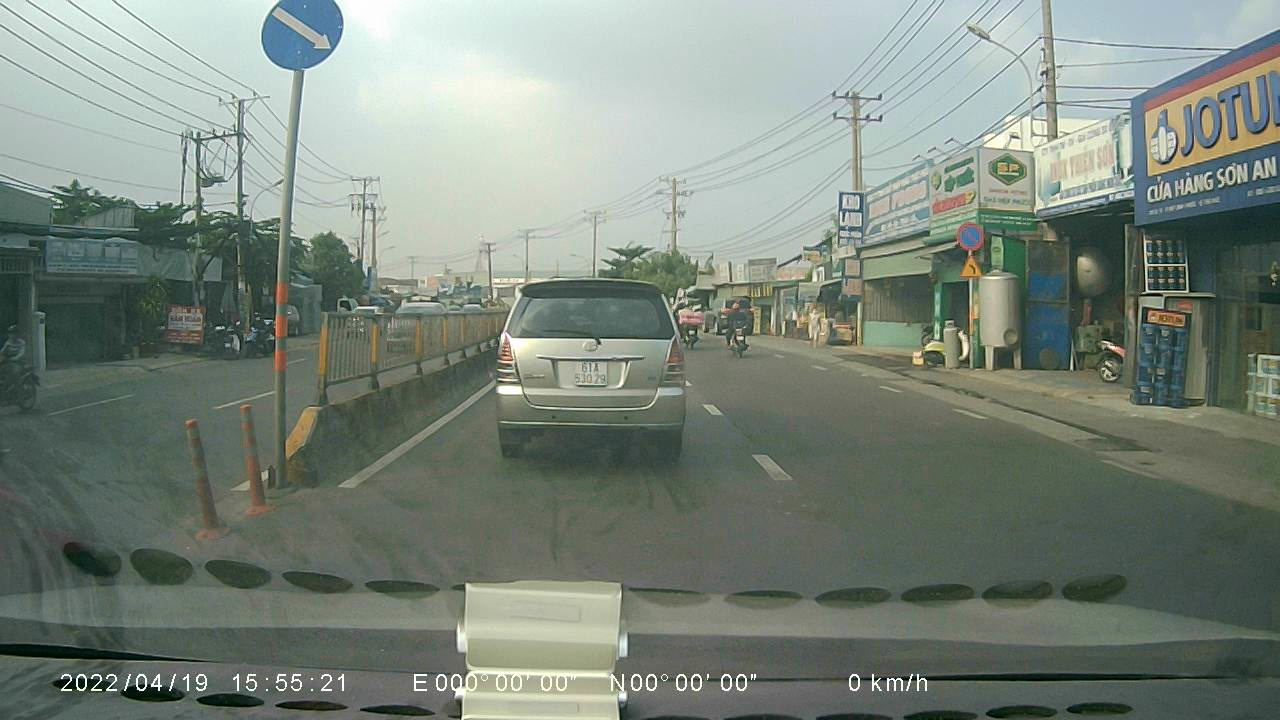Cam do xe: (956, 217, 986, 252)
Huong di phai re phai: (259, 1, 352, 70)
